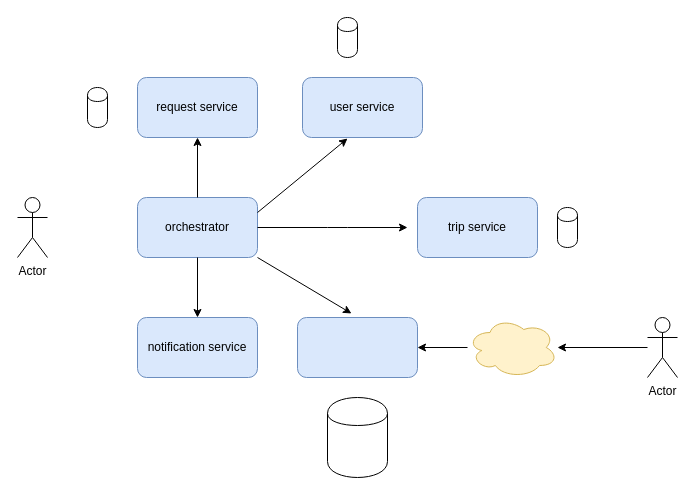
Image size: 695x495. Some labels were removed from this diagram. The centre of each missing label's shape, as x and y in pixels:
"driver location/grid service" belongs at pixel 357 347.
"queue" belongs at pixel 512 347.
